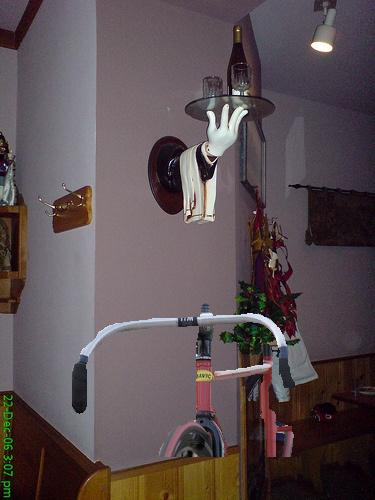tampered: (73, 304, 295, 457)
